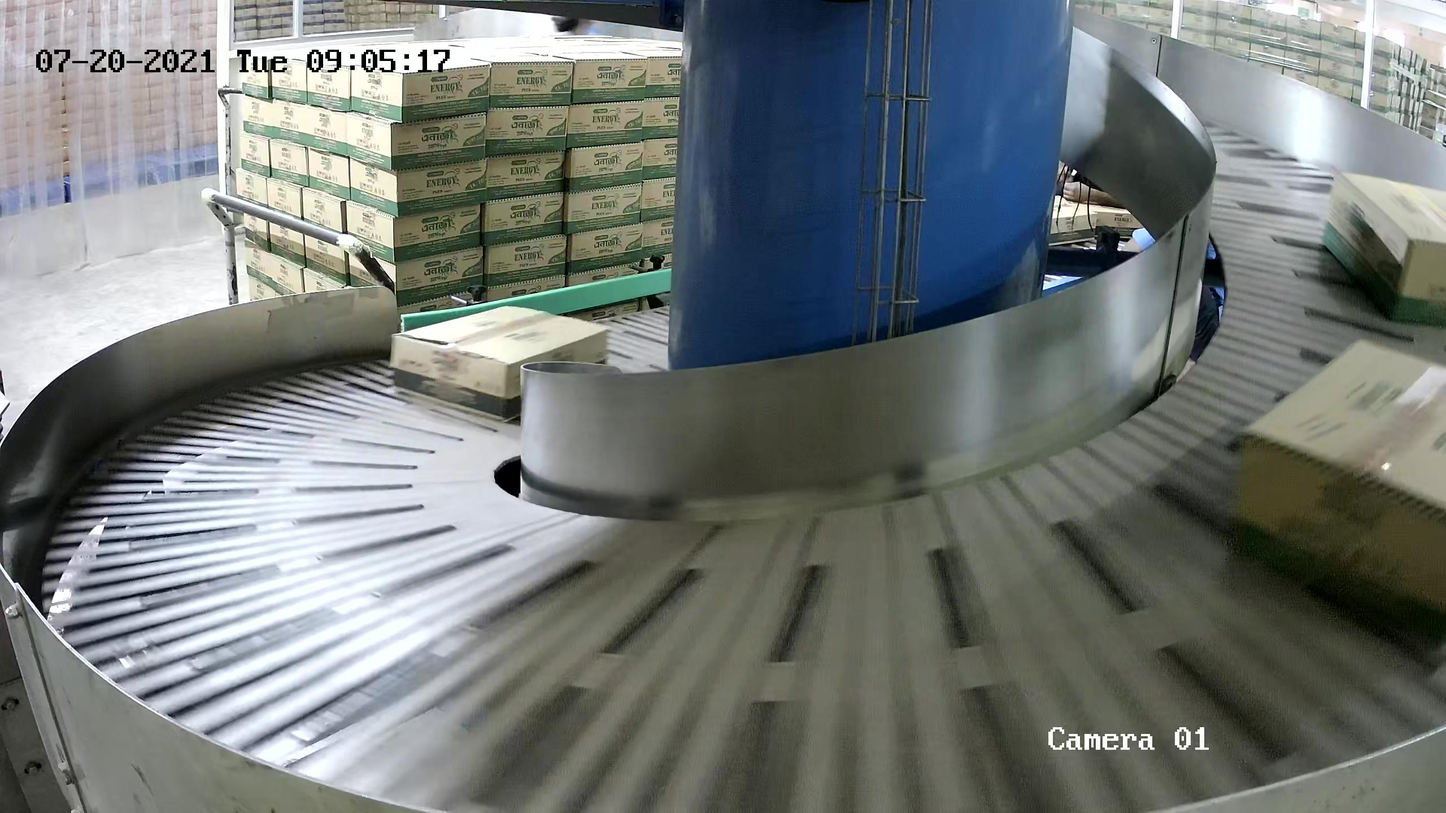Box: (1231, 335, 1446, 665), (389, 305, 608, 422), (1319, 167, 1446, 330)
